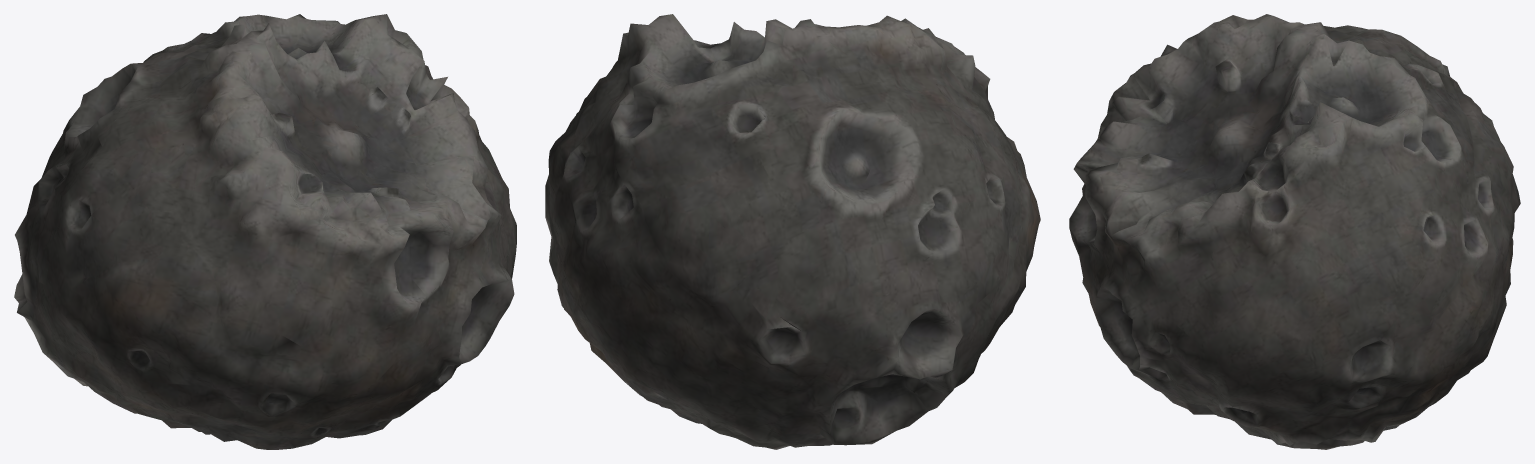
Rendered from asteroid_f.glb.
3 views of the same model, side by side, from view 1: azimuth 30°, elevation 25°; view 2: azimuth 150°, elevation 25°; view 3: azimuth 270°, elevation 25° (orthographic). The views are drawn at different scales.
Visible parts, largest first — view 1: AST_F_low; view 2: AST_F_low; view 3: AST_F_low.
Boxes of the visible parts, x1=… form: AST_F_low: x1=14, y1=14, x2=516, y2=449; AST_F_low: x1=545, y1=14, x2=1040, y2=449; AST_F_low: x1=1069, y1=14, x2=1520, y2=449.
Bounding box in the file's own units: 1.85 × 1.62 × 1.72.
1 material, 1 textured.
